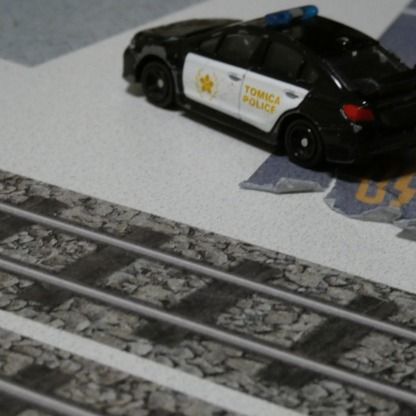car: (121, 5, 416, 171)
